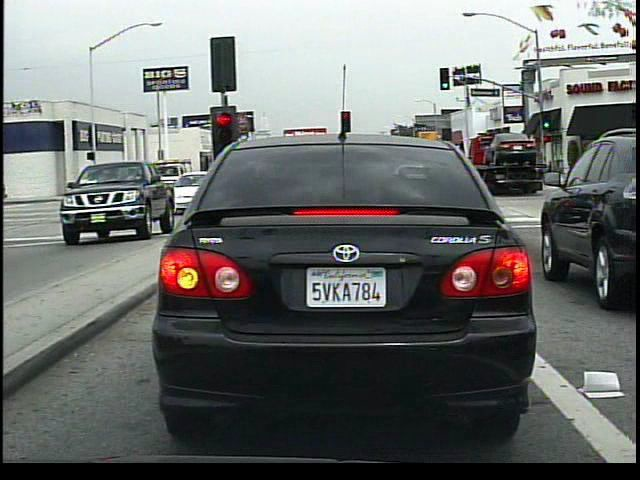person: (175, 169, 196, 194)
